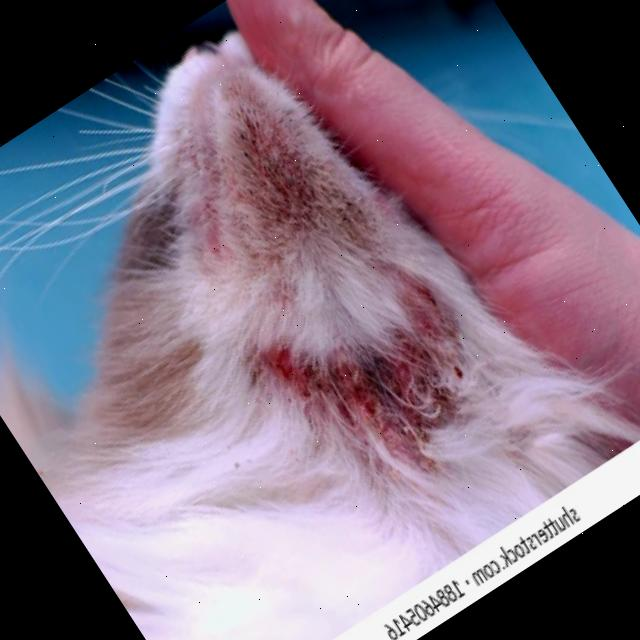cat-dermatitis: (265, 273, 497, 492), (224, 100, 332, 230), (180, 187, 247, 266)
